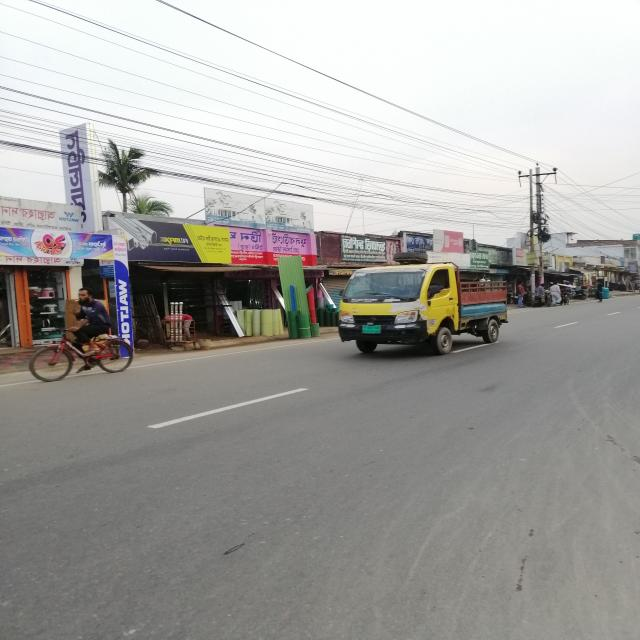Bicycle: (17, 322, 158, 395)
Pick-Up Truck: (322, 259, 532, 377)
